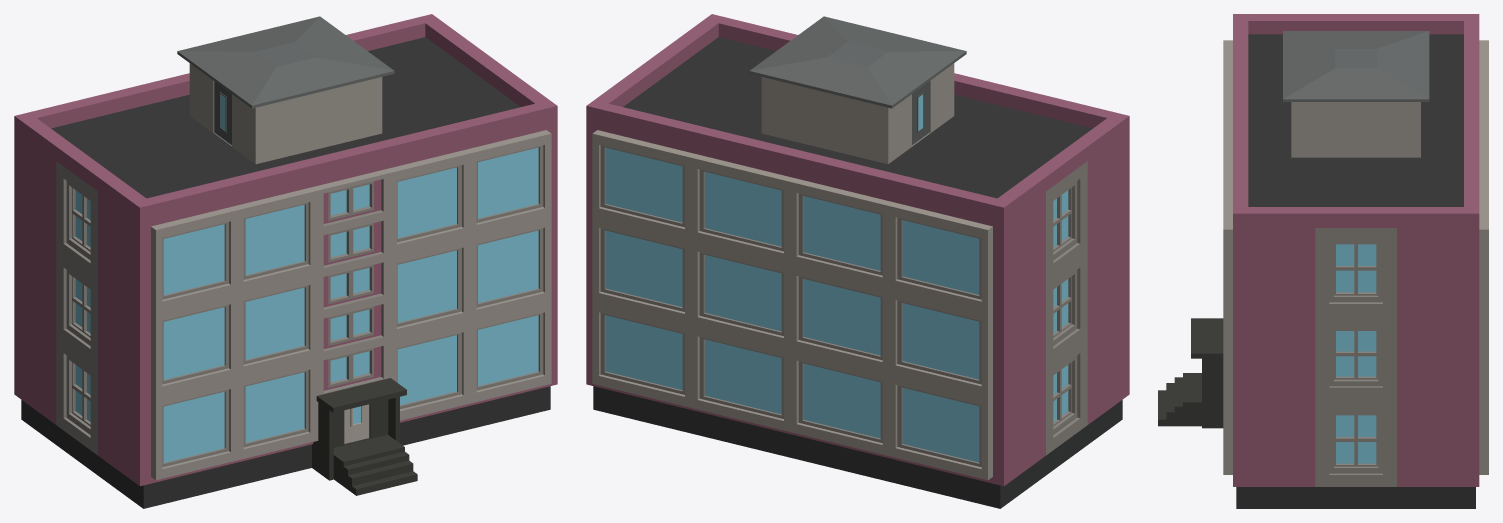
The model's file is SM_house_36.gltf.
The picture shows the model from 3 angles, left to right: view 1: azimuth 30°, elevation 25°; view 2: azimuth 150°, elevation 25°; view 3: azimuth 270°, elevation 25°; orthographic projection. The views are drawn at different scales.
Parts seen in each view (by area): view 1: SM_house_36; view 2: SM_house_36; view 3: SM_house_36.
Boxes of the visible parts, x1,y1,x2,y2 form: SM_house_36: [14, 14, 557, 508]; SM_house_36: [586, 14, 1129, 508]; SM_house_36: [1158, 14, 1488, 508].
Size of the model in its own units: 4.46 by 3.67 by 3.12.
